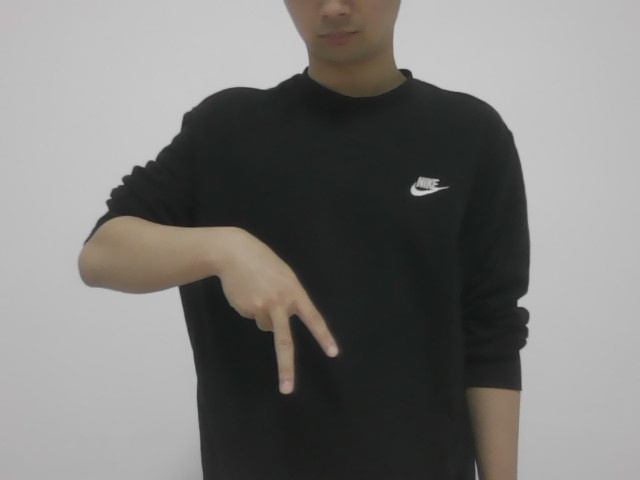walk: (213, 222, 348, 398)
